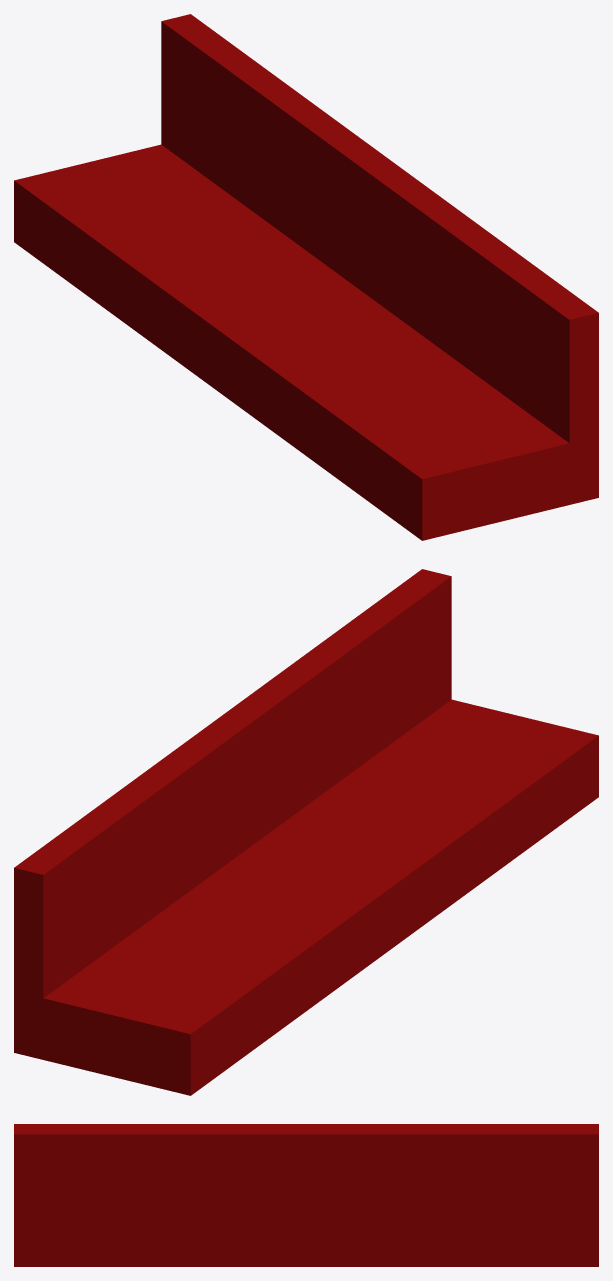
The model's file is SM_Ledge_1x4x1.gltf.
3 renders of one model, top to bottom at view 1: azimuth 30°, elevation 25°; view 2: azimuth 150°, elevation 25°; view 3: azimuth 270°, elevation 25°, orthographic. The views are drawn at different scales.
Parts seen in each view (by area): view 1: SM_Ledge_1x4x1; view 2: SM_Ledge_1x4x1; view 3: SM_Ledge_1x4x1.
Part boxes in pixels (x1,y1,x2,y2): SM_Ledge_1x4x1: [14, 14, 598, 540]; SM_Ledge_1x4x1: [14, 569, 598, 1095]; SM_Ledge_1x4x1: [14, 1124, 598, 1266].
Size of the model in its own units: 0.3 by 0.3 by 1.2.
